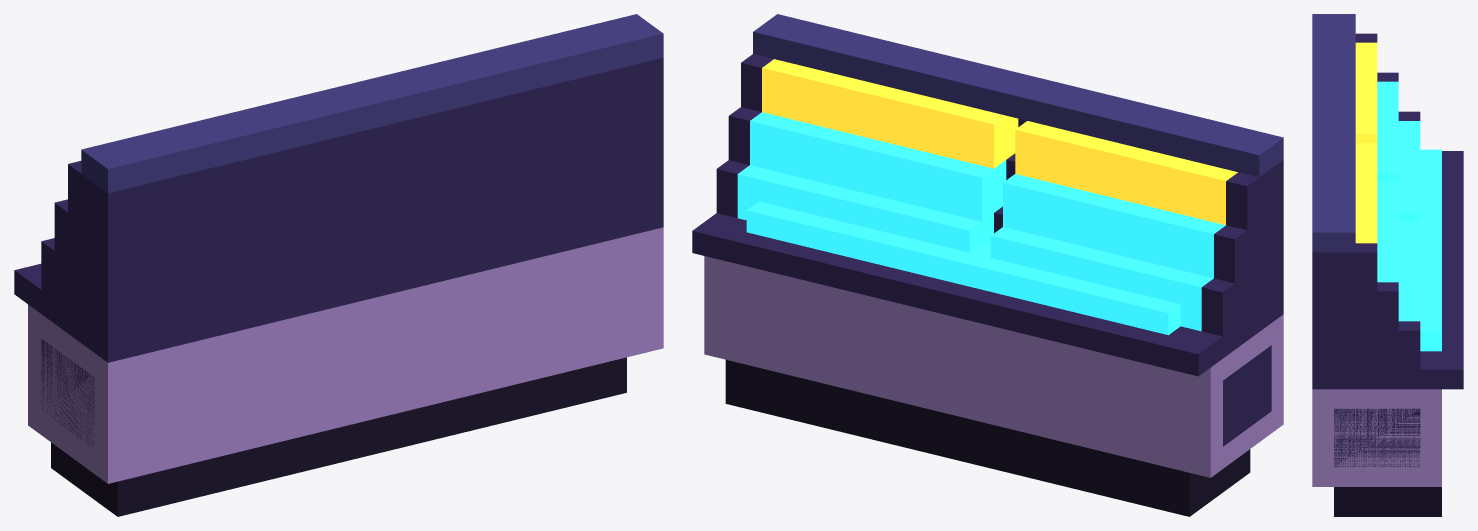
File: shipyard.equipment.command-console.glb
3 renders of one model, left to right at view 1: azimuth 30°, elevation 25°; view 2: azimuth 150°, elevation 25°; view 3: azimuth 270°, elevation 25°, orthographic. The views are drawn at different scales.
Parts seen in each view (by area): view 1: shipyard.equipment.command-console; view 2: shipyard.equipment.command-console; view 3: shipyard.equipment.command-console.
Part boxes in pixels (x1,y1,x2,y2): shipyard.equipment.command-console: (14, 14, 663, 516); shipyard.equipment.command-console: (692, 14, 1283, 516); shipyard.equipment.command-console: (1312, 14, 1463, 516).
Size of the model in its own units: 1.5 by 0.9375 by 0.4375.
